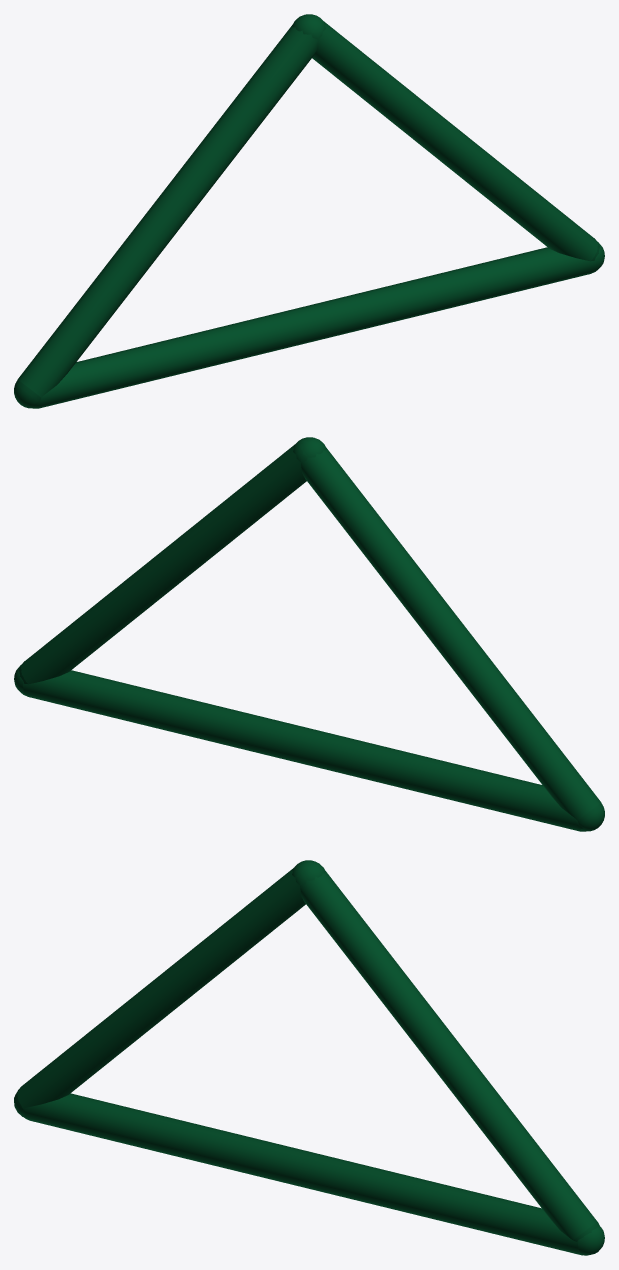
File: triangle_neon_green.fbx
3 renders of one model, top to bottom at view 1: azimuth 30°, elevation 25°; view 2: azimuth 150°, elevation 25°; view 3: azimuth 330°, elevation 25°, orthographic.
Visible parts, largest first — view 1: polySurface653; view 2: polySurface653; view 3: polySurface653.
Part boxes in pixels (x1,y1,x2,y2): polySurface653: (14, 14, 604, 408); polySurface653: (14, 437, 604, 831); polySurface653: (14, 860, 604, 1255).
Size of the model in its own units: 7.25 by 3.84 by 0.3897.
